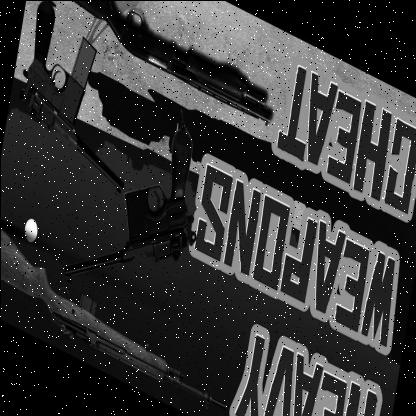rifle: (0, 218, 239, 416), (30, 0, 282, 134)
